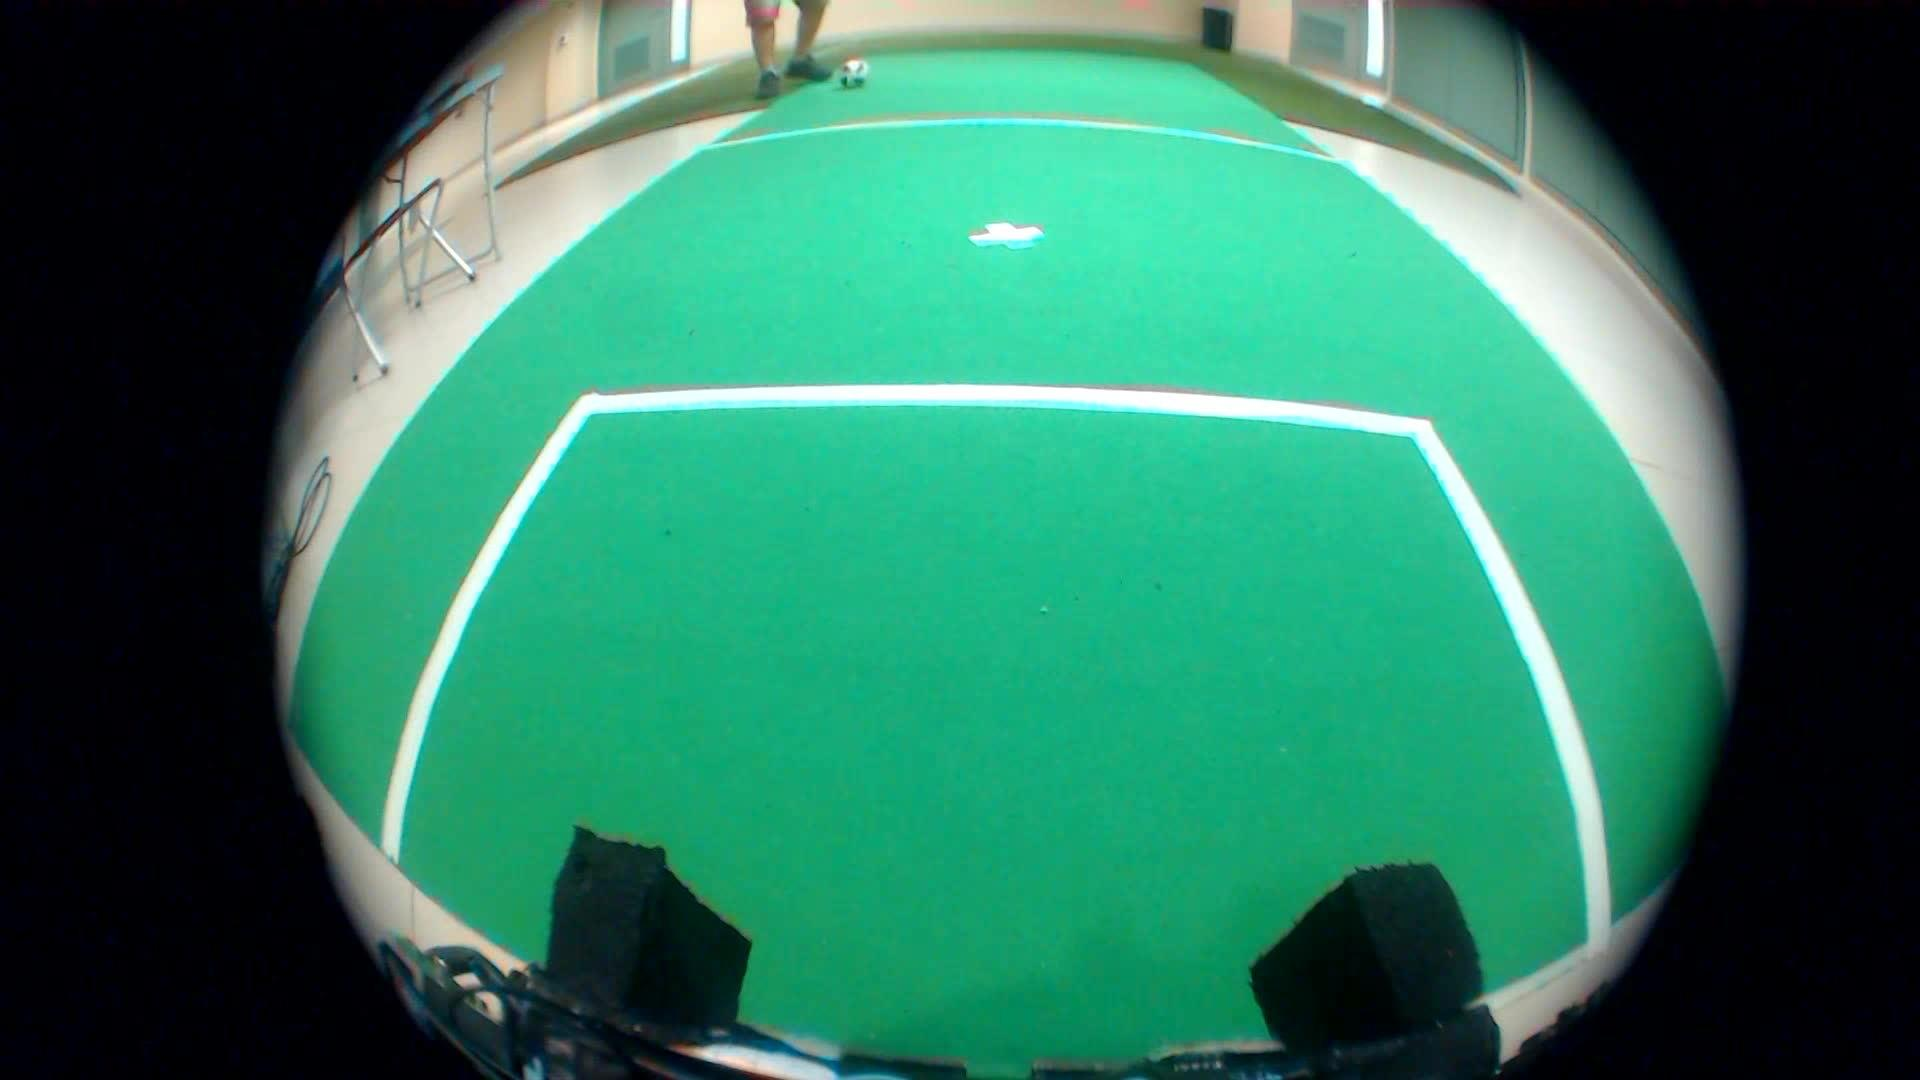ball: (835, 50, 874, 95)
